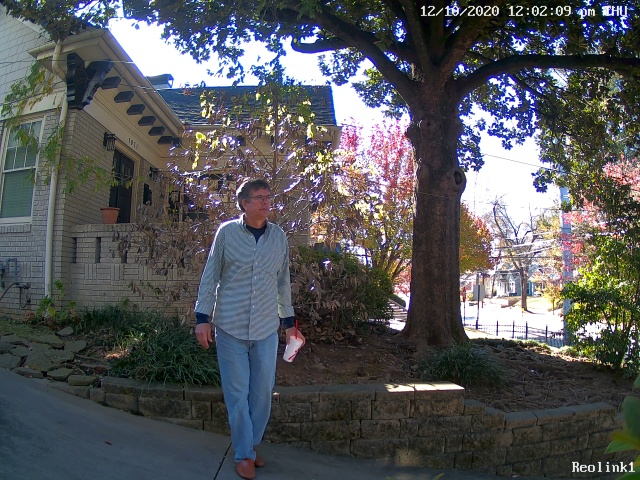person: (177, 164, 314, 480)
